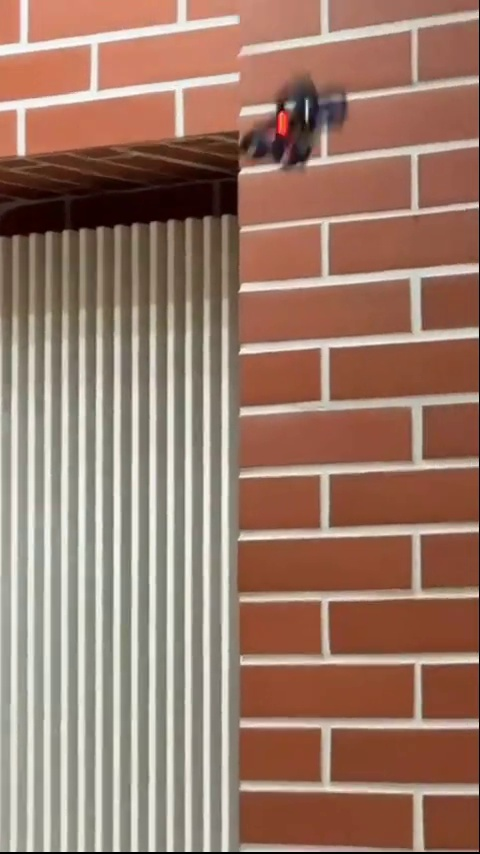drone: (236, 72, 352, 172)
